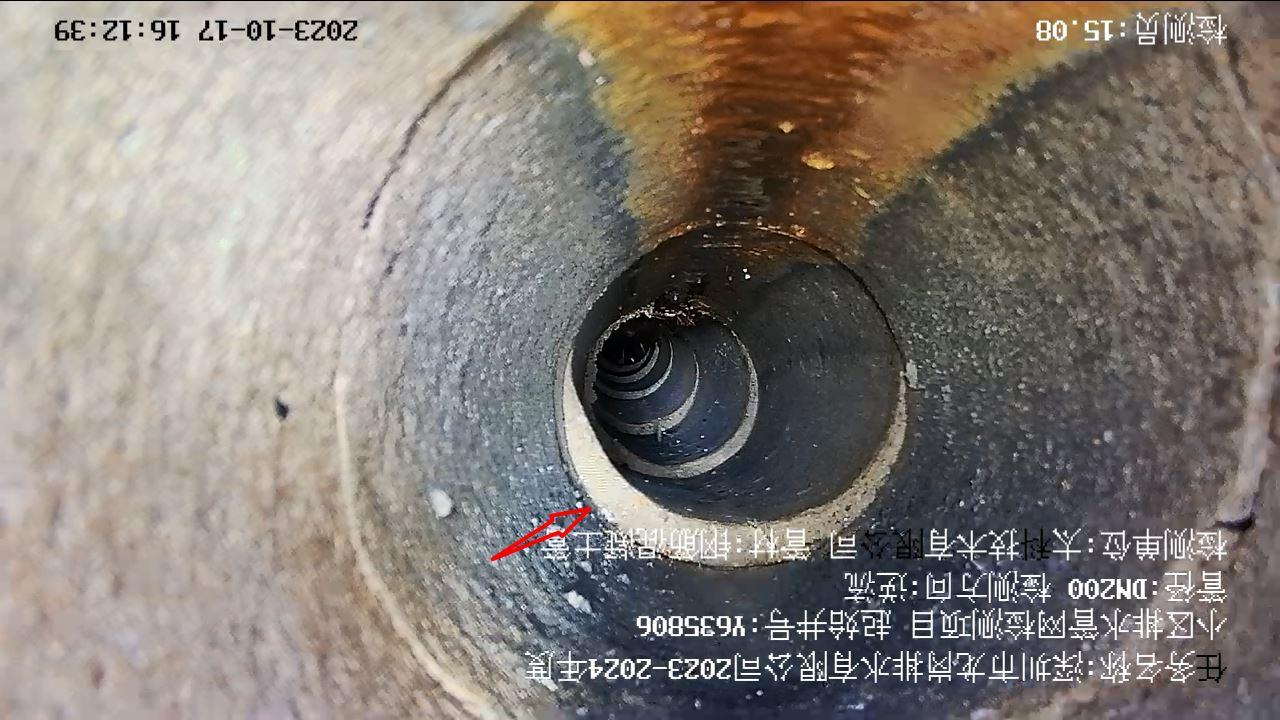CKTJ: (555, 339, 908, 568), (580, 325, 760, 479), (600, 361, 700, 435), (597, 341, 674, 401), (601, 339, 660, 386)
